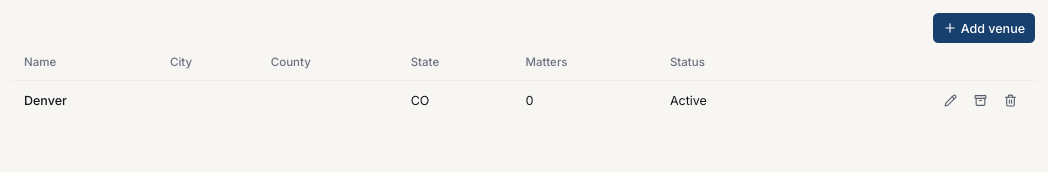
Test: VenueEditor › shows delete error
Click the button named "Delete Denver": (1010, 100) [996,86,1024,114]
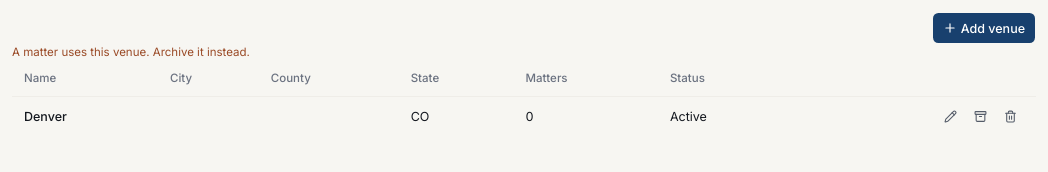
Check: the message shows "Archive it instead", box [12,45,250,59]
